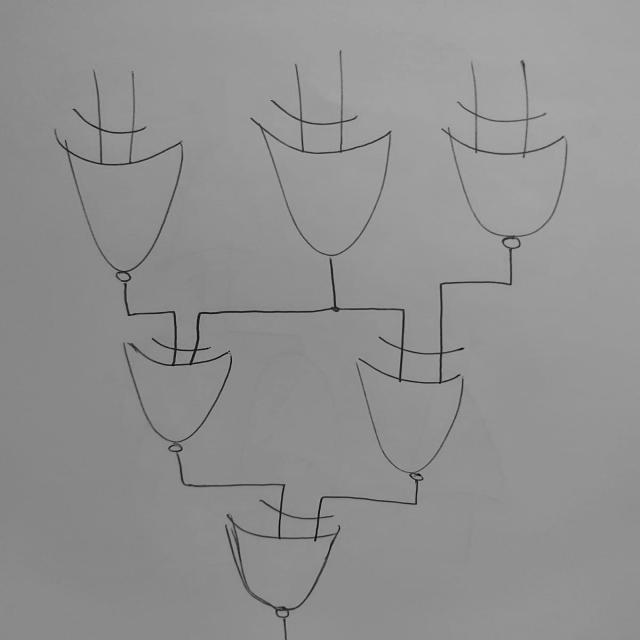XNOR: (43, 98, 218, 292), (434, 95, 605, 262), (341, 330, 505, 490), (203, 498, 371, 622), (114, 328, 265, 465)
XOR: (238, 84, 420, 269)
